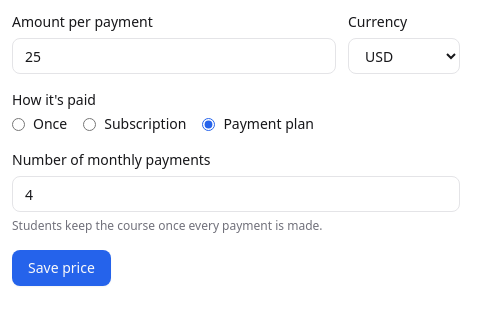
Test: PriceForm › shows a payment plan's number of payments, and marks it when the server rejects it
Expected: the number field labelled "Number of monthly payments" holds "4", [12,176,460,212]
Click the button "Save price" at (61,268), box [12,250,111,286]
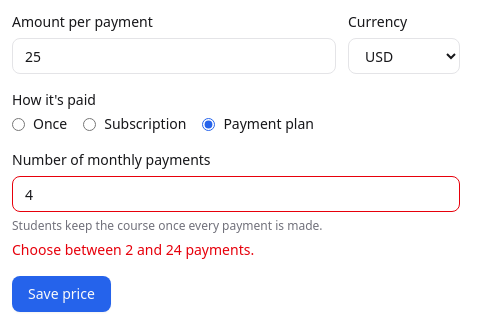
Now the text "Choose between 2 and 24 payments." is shown, box [12,240,254,259]
